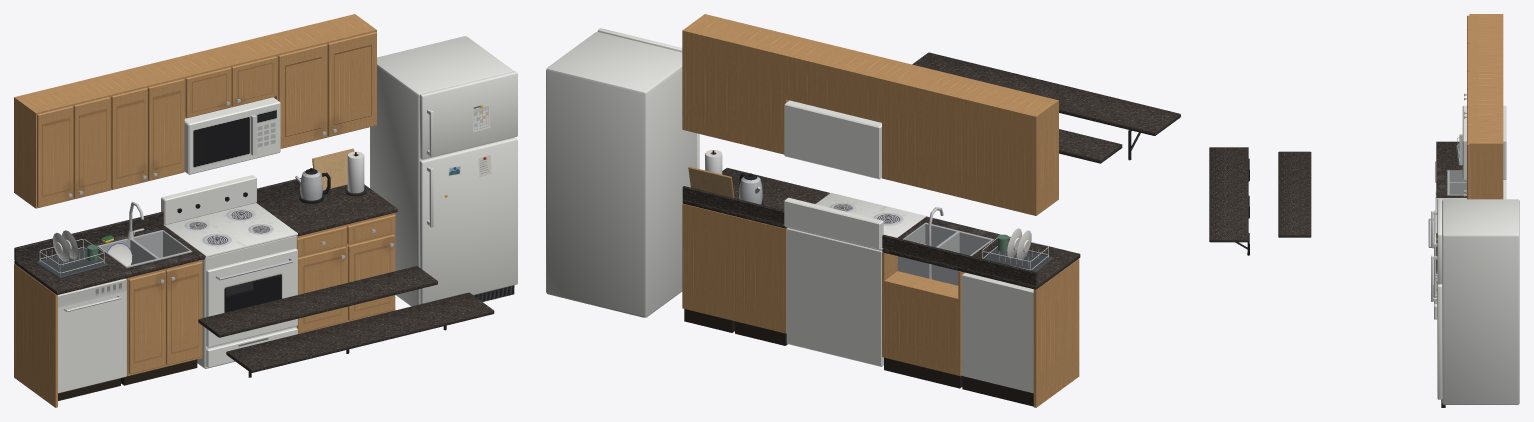
File: us_kitchen_props.glb
The picture shows the model from 3 angles, left to right: view 1: azimuth 30°, elevation 25°; view 2: azimuth 150°, elevation 25°; view 3: azimuth 270°, elevation 25°; orthographic projection. The views are drawn at different scales.
Parts seen in each view (by area): view 1: US_UPPER, US_FRIDGE, US_COUNTER, US_RANGE, US_DISHWASHER, US_BAR, US_PASSSHELF, US_KITCHEN_LIFE, US_SINK; view 2: US_UPPER, US_FRIDGE, US_COUNTER, US_RANGE, US_DISHWASHER, US_BAR, US_KITCHEN_LIFE, US_SINK, US_PASSSHELF; view 3: US_FRIDGE, US_UPPER, US_BAR, US_PASSSHELF, US_RANGE, US_COUNTER, US_SINK.
Part boxes in pixels (x1,y1,x2,y2): US_UPPER: [14, 14, 376, 208]; US_FRIDGE: [370, 36, 517, 306]; US_COUNTER: [14, 178, 397, 407]; US_RANGE: [161, 97, 297, 368]; US_DISHWASHER: [58, 278, 126, 400]; US_BAR: [226, 292, 494, 377]; US_PASSSHELF: [198, 266, 437, 337]; US_KITCHEN_LIFE: [35, 148, 366, 278]; US_SINK: [97, 202, 192, 268]; US_UPPER: [682, 14, 1058, 215]; US_FRIDGE: [546, 28, 699, 317]; US_COUNTER: [682, 168, 1080, 407]; US_RANGE: [784, 100, 926, 366]; US_DISHWASHER: [961, 272, 1033, 406]; US_BAR: [912, 52, 1180, 160]; US_KITCHEN_LIFE: [688, 150, 1052, 271]; US_SINK: [897, 207, 993, 285]; US_PASSSHELF: [1059, 129, 1122, 163]; US_FRIDGE: [1431, 198, 1519, 407]; US_UPPER: [1464, 14, 1503, 199]; US_BAR: [1209, 147, 1249, 255]; US_PASSSHELF: [1278, 151, 1311, 237]; US_RANGE: [1428, 105, 1506, 319]; US_COUNTER: [1435, 141, 1466, 297]; US_SINK: [1447, 170, 1466, 195].
Size of the model in its own units: 3.8 by 2.2 by 2.83.
1 material, 1 textured.
